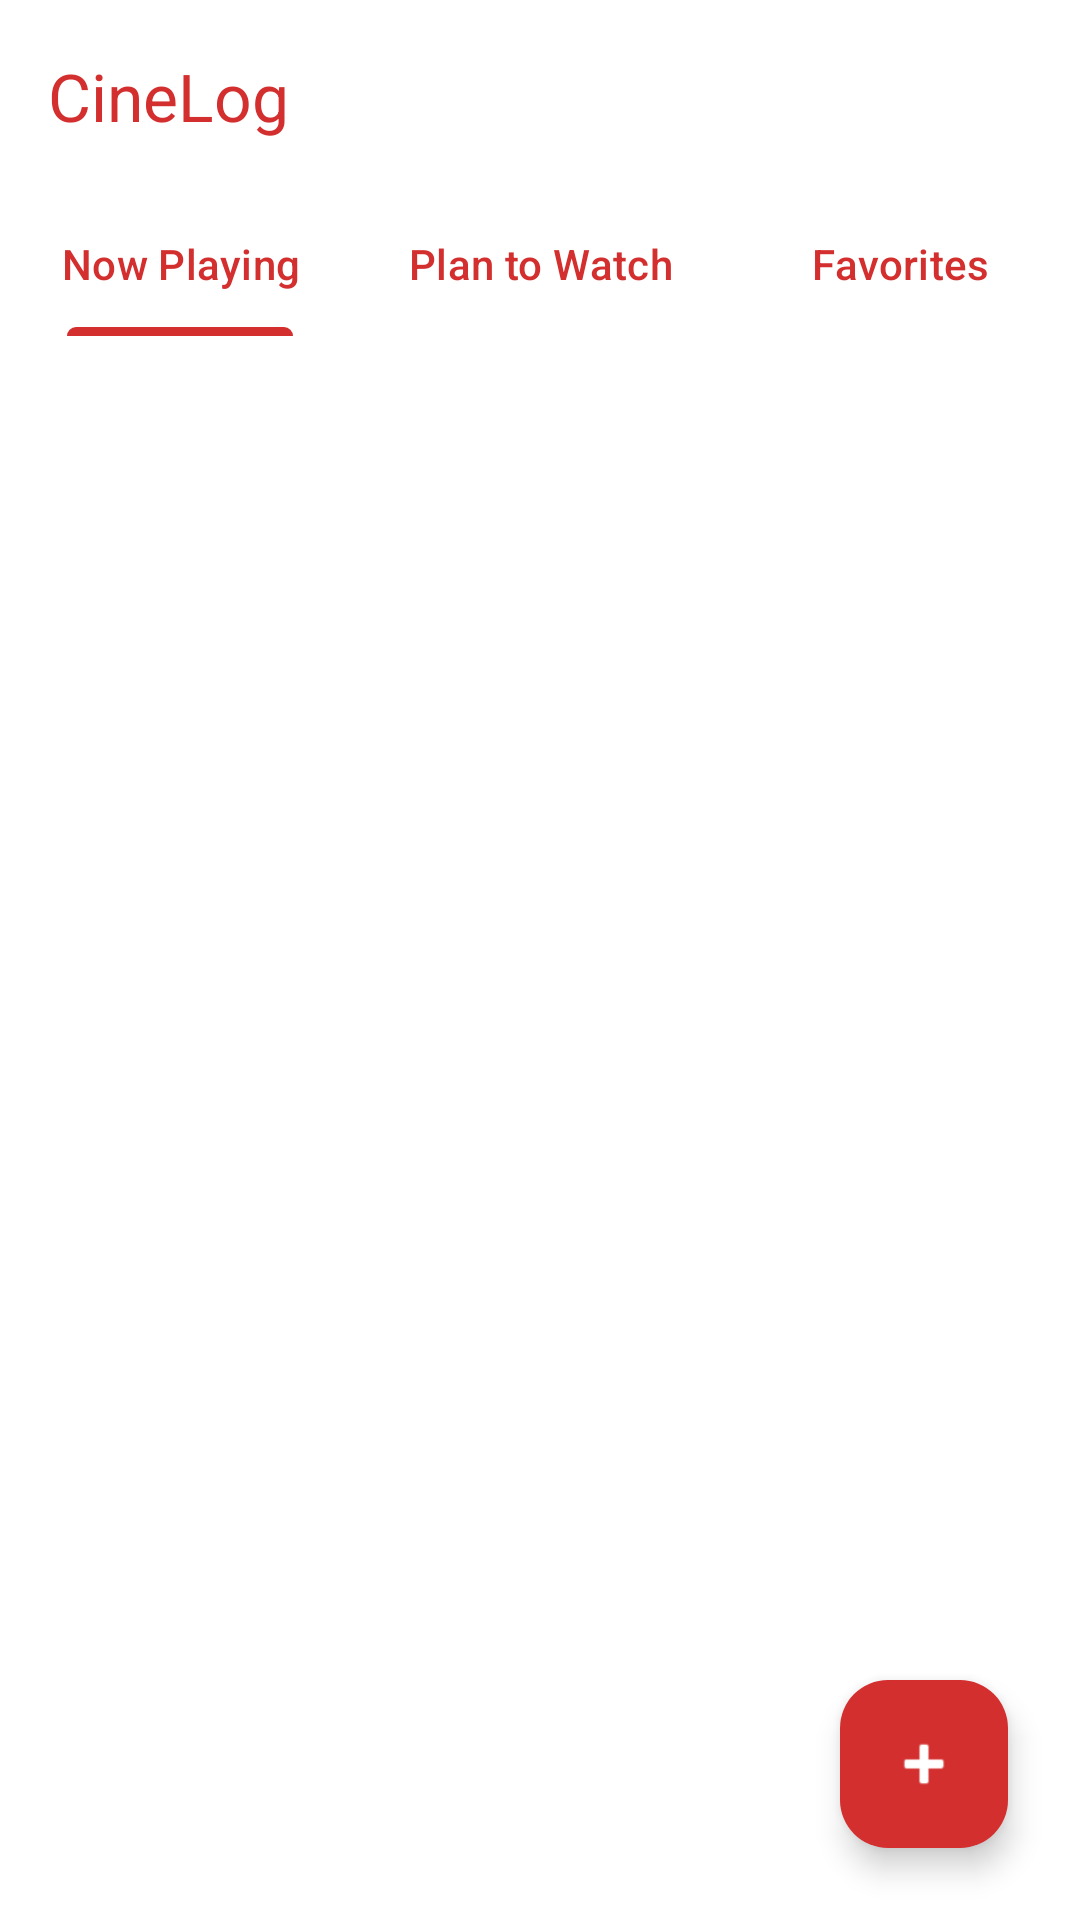

Locate icon controls on the screen. Image size 1080w x 1920h, boxes as (x1, y1, x2, y2).
Tambah Film Baru: (840, 1680, 1008, 1848)
